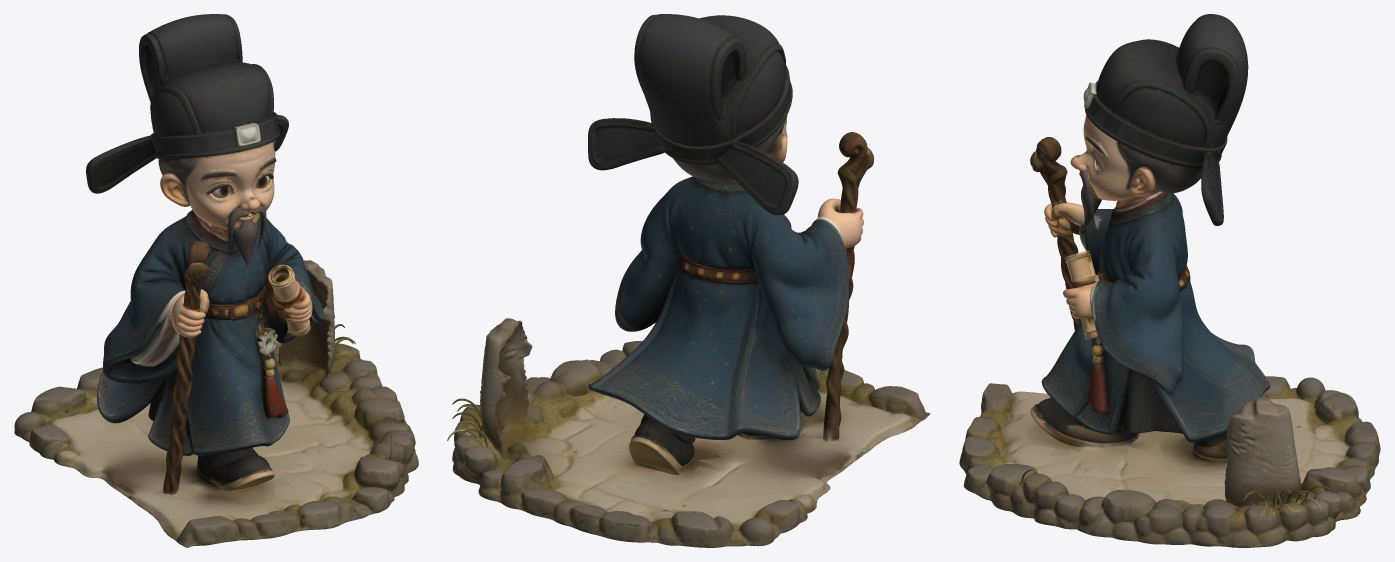
Rendered from travel.glb.
The picture shows the model from 3 angles, left to right: view 1: azimuth 30°, elevation 25°; view 2: azimuth 150°, elevation 25°; view 3: azimuth 270°, elevation 25°; orthographic projection. The views are drawn at different scales.
Parts seen in each view (by area): view 1: node_0; view 2: node_0; view 3: node_0.
Part boxes in pixels (x1,y1,x2,y2): node_0: (14, 14, 418, 547); node_0: (447, 14, 930, 547); node_0: (959, 14, 1380, 547).
Bounding box in the file's own units: 0.6632 × 0.8295 × 0.7353.
Materials: 1 (1 with a texture image).
